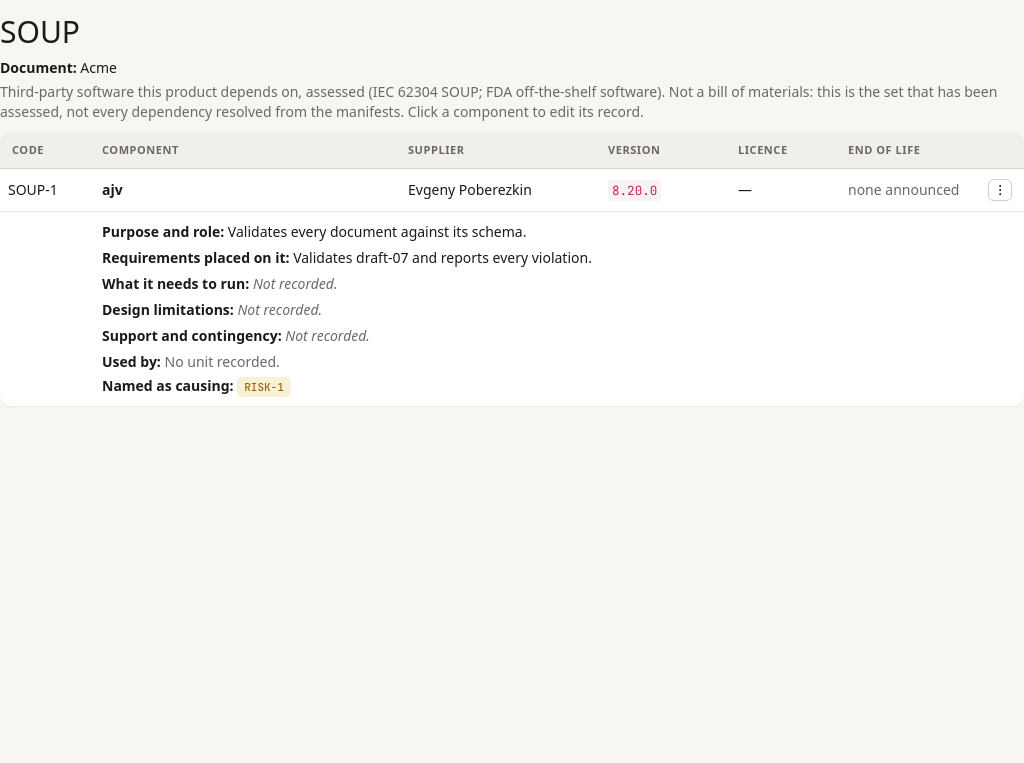
Test case: SoupTable — clicking opens the whole record › turns every field into an input at once, not just the one clicked
The width and height of the screenshot is (1024, 763).
Click the text "ajv": (112, 189) [102,180,123,199]
(page scrolled)
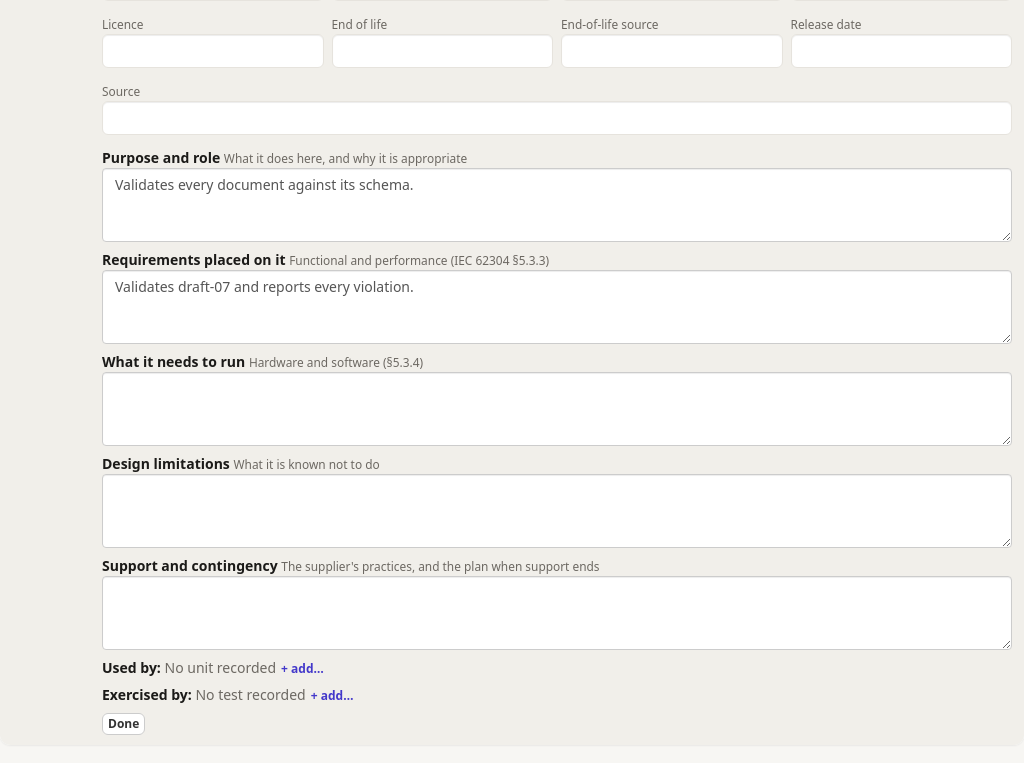
Expected: the field named "Licence of ajv" is shown, [102,34,324,68]
Expected: the text box named "Purpose and role of ajv" is shown, [102,168,1012,242]
Expected: the text box named "Requirements placed on it of ajv" is shown, [102,270,1012,344]
